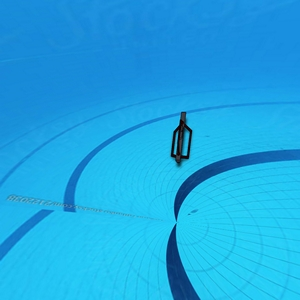submarine: (173, 113, 191, 167)
